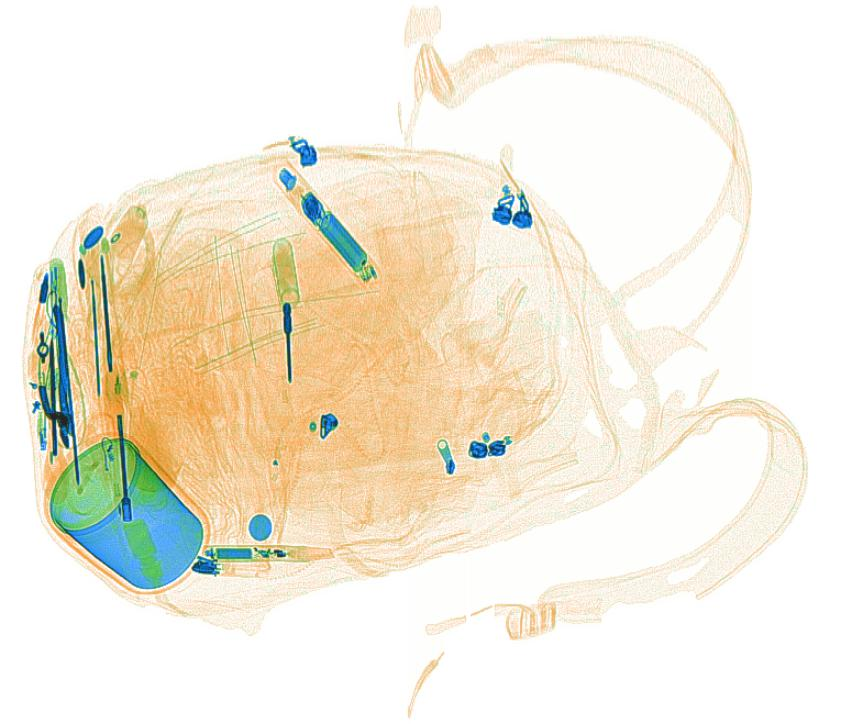battery: (316, 209, 365, 272)
